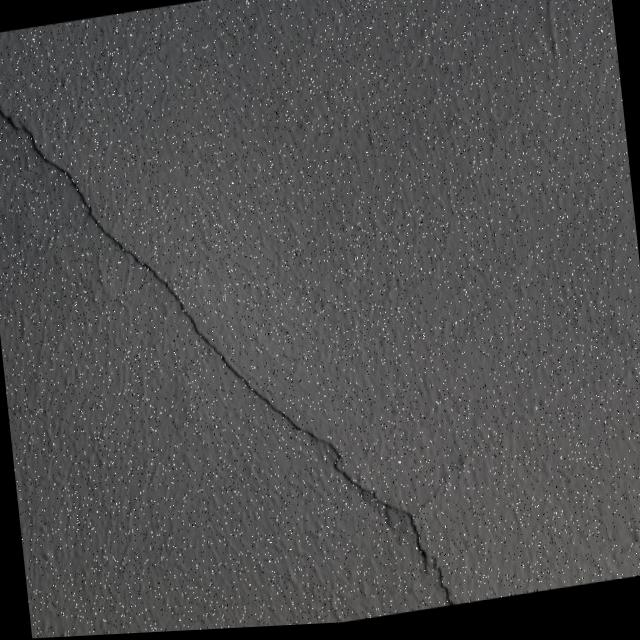Crack: (0, 11, 469, 640)
